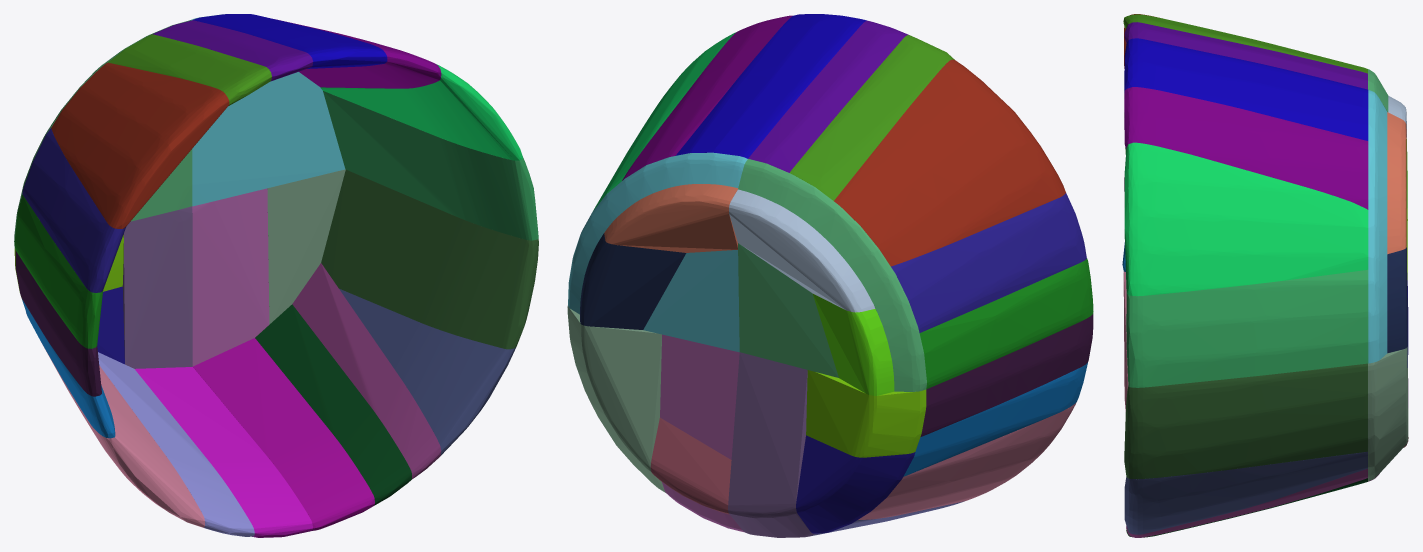
The model's file is coacd_collision.obj.
The picture shows the model from 3 angles, left to right: view 1: azimuth 30°, elevation 25°; view 2: azimuth 150°, elevation 25°; view 3: azimuth 270°, elevation 25°; orthographic projection.
Parts seen in each view (by area): view 1: geometry_19, geometry_15, geometry_10, geometry_14, geometry_2, geometry_7, geometry_16, geometry_1, geometry_22, geometry_25, geometry_28, geometry_18 (+14 smaller); view 2: geometry_15, geometry_3, geometry_2, geometry_18, geometry_1, geometry_5, geometry_8, geometry_0, geometry_30, geometry_7, geometry_6, geometry_26 (+11 smaller); view 3: geometry_23, geometry_10, geometry_19, geometry_11, geometry_5, geometry_16, geometry_2, geometry_0, geometry_27, geometry_9, geometry_21, geometry_30 (+4 smaller).
Part boxes in pixels (box(x1,y1,x2,y2)): geometry_19: box(321, 169, 538, 349); geometry_15: box(51, 62, 229, 228); geometry_10: box(323, 91, 538, 240); geometry_14: box(193, 338, 374, 530); geometry_2: box(190, 14, 345, 206); geometry_7: box(192, 188, 269, 366); geometry_16: box(339, 288, 516, 455); geometry_1: box(122, 206, 192, 368); geometry_22: box(135, 367, 312, 537); geometry_25: box(255, 304, 411, 505); geometry_28: box(292, 263, 441, 479); geometry_18: box(22, 128, 125, 292); geometry_15: box(834, 59, 1065, 266); geometry_3: box(738, 159, 926, 391); geometry_2: box(568, 152, 747, 352); geometry_18: box(891, 193, 1086, 332); geometry_1: box(728, 352, 815, 537); geometry_5: box(675, 14, 867, 158); geometry_8: box(919, 258, 1093, 389); geometry_0: box(567, 306, 665, 492); geometry_30: box(790, 35, 954, 200); geometry_7: box(660, 334, 744, 532); geometry_6: box(729, 189, 875, 312); geometry_26: box(920, 314, 1093, 436); geometry_23: box(1124, 142, 1368, 296); geometry_10: box(1126, 269, 1368, 387); geometry_19: box(1124, 363, 1367, 479); geometry_11: box(1124, 87, 1368, 209); geometry_5: box(1124, 38, 1368, 140); geometry_16: box(1124, 451, 1367, 534); geometry_2: box(1368, 90, 1387, 363); geometry_0: box(1368, 347, 1408, 481); geometry_27: box(1124, 22, 1367, 89); geometry_9: box(1387, 112, 1406, 254); geometry_21: box(1387, 247, 1407, 353); geometry_30: box(1123, 14, 1367, 73).
Size of the model in its own units: 116 by 116 by 63.31.
